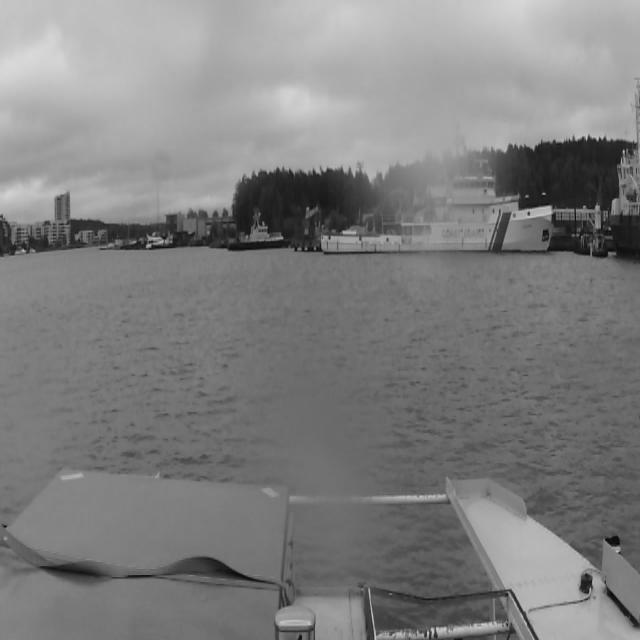ship: (322, 174, 552, 252), (611, 146, 640, 259), (229, 207, 285, 249)
